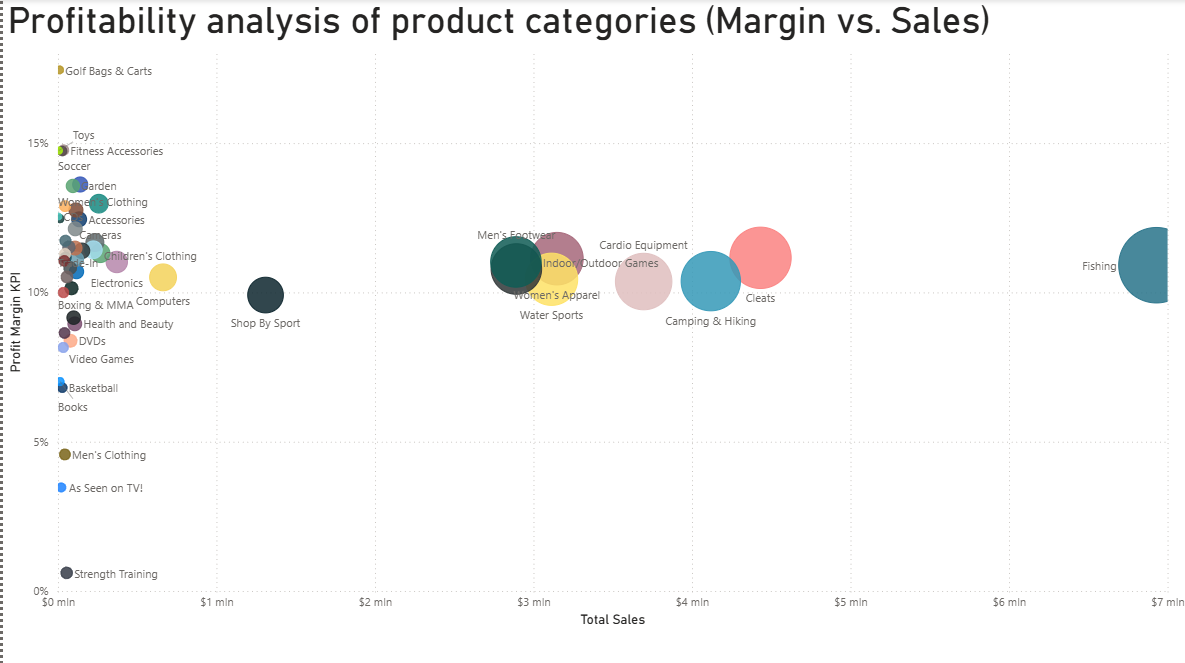

Layout of this report page (visuals, bound fields, positions):
{"tool":"powerbi","page":{"name":"What Drives Profitability?","canvas":[1280,720],"ordinal":2},"visuals":[{"type":"scatterChart","title":"Profitability analysis of product categories (Margin vs. Sales)","fields":{"Series":["FactSales.Category Name"],"X":["Sum(FactSales.Sales)"],"Y":["FactSales.Profit Margin KPI"],"Size":["Sum(FactSales.Sales)"]},"box":[0,0,1280,681.9],"z":0}]}

Visuals, with their boxes in screenshot pixels (x1, y1, x2, y2), scaled from the page's 1280x720 canvas onto the 1185x663 screenshot:
"Profitability analysis of product categories (Margin vs. Sales)" scatterChart: bbox(0, 0, 1184, 628)
